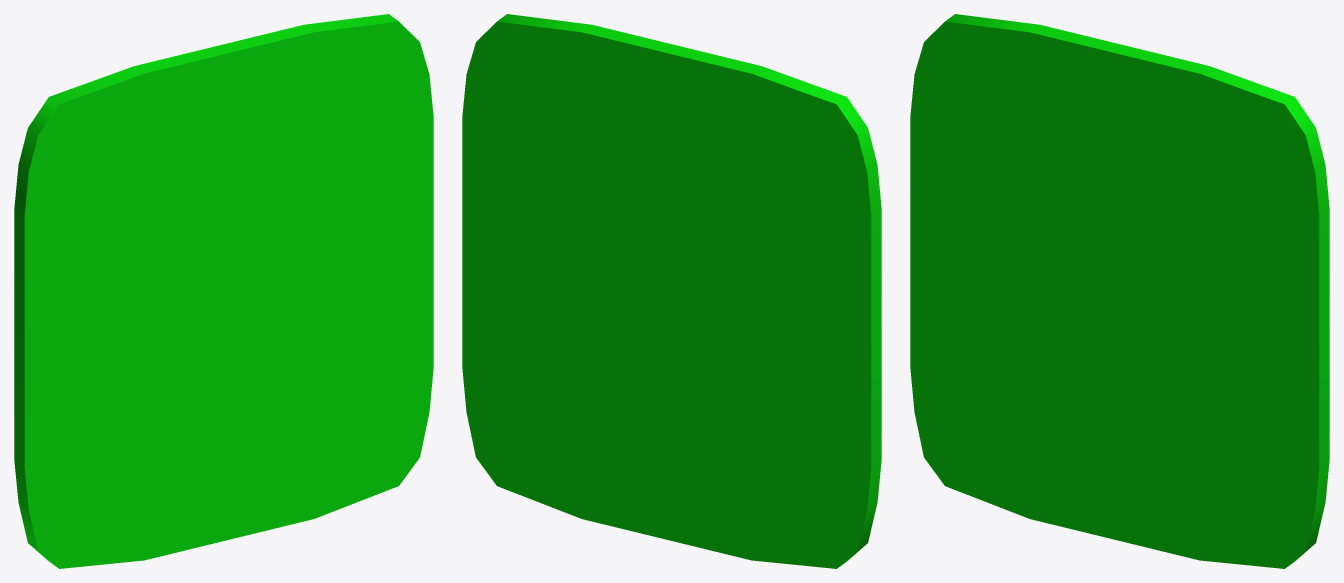
3 renders of one model, left to right at view 1: azimuth 30°, elevation 25°; view 2: azimuth 150°, elevation 25°; view 3: azimuth 330°, elevation 25°, orthographic.
Parts seen in each view (by area): view 1: Plano_043-mesh; view 2: Plano_043-mesh; view 3: Plano_043-mesh.
Part boxes in pixels (<box>): Plano_043-mesh: <box>14,14,433,568</box>; Plano_043-mesh: <box>462,14,881,568</box>; Plano_043-mesh: <box>910,14,1329,568</box>.
Size of the model in its own units: 1.06 by 1.2 by 0.0461.
